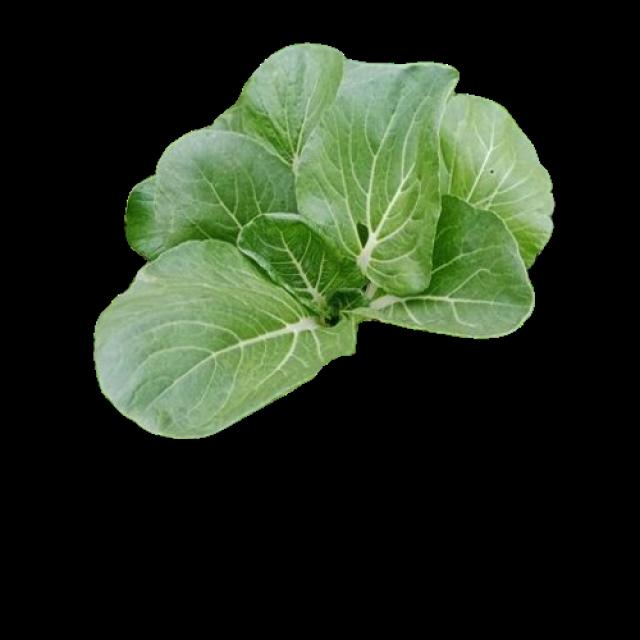mature: (96, 45, 550, 435)
unhealthy: (293, 62, 455, 296)
